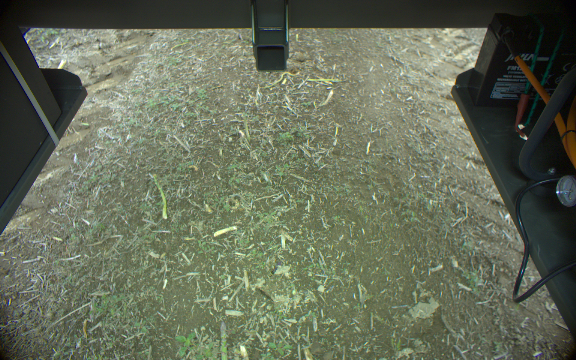aspa: (150, 173, 170, 221), (302, 76, 340, 83), (241, 113, 250, 141)
